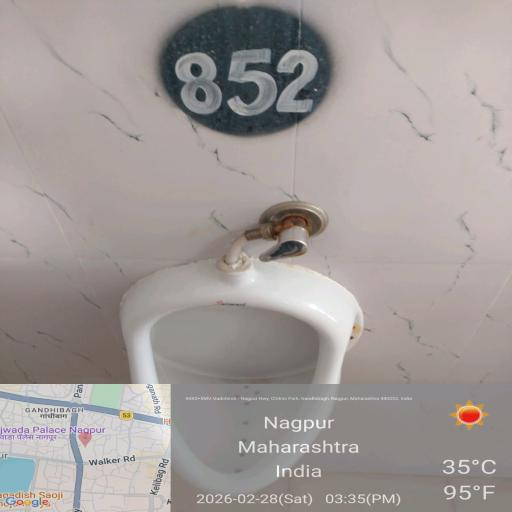clean_floor: (6, 6, 484, 230)
clean_urinal: (108, 241, 378, 495)
